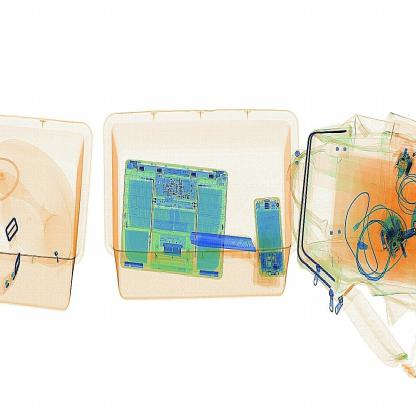pliers: (181, 232, 260, 258)
